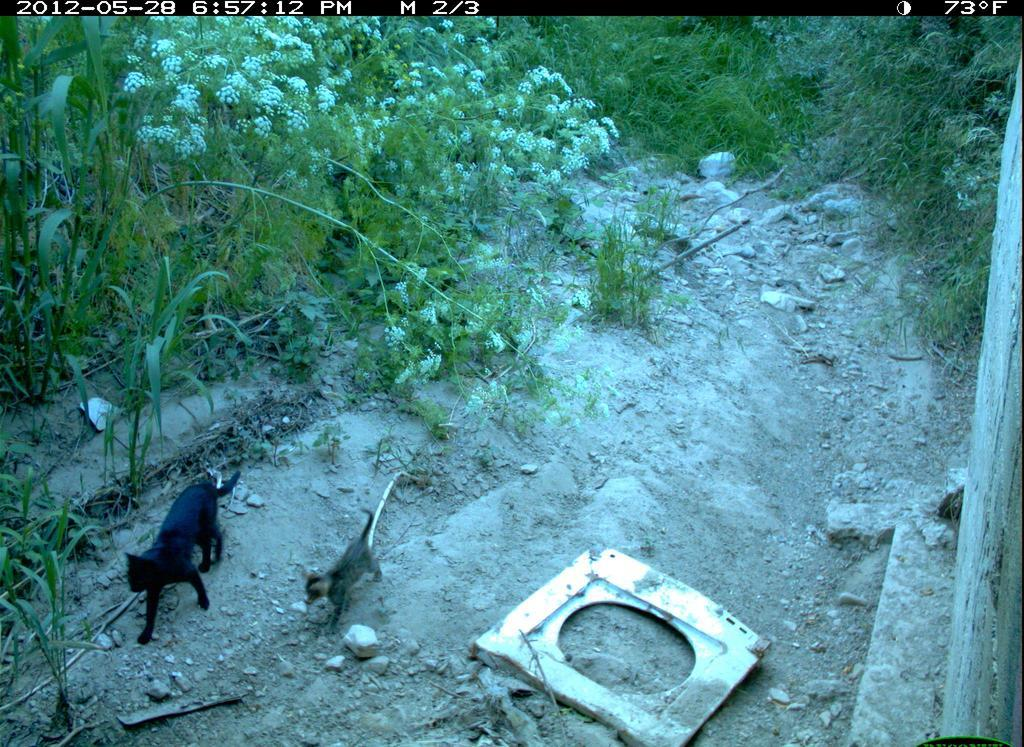cat: (116, 454, 250, 655), (296, 492, 393, 643)
